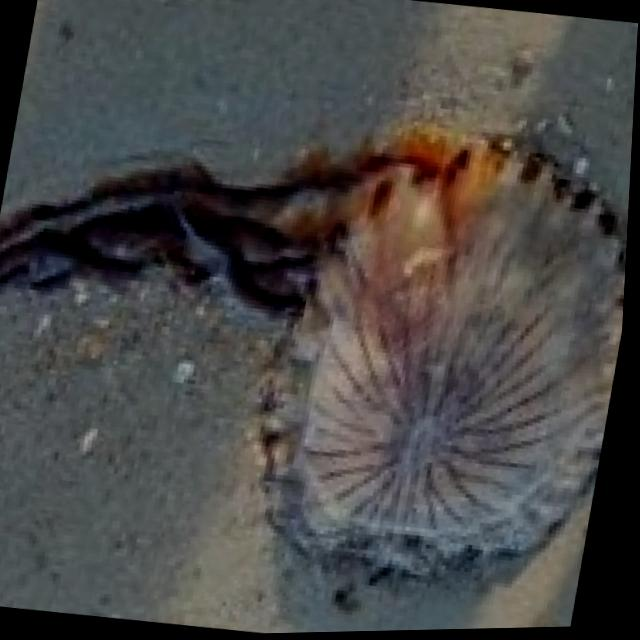Jellyfish: (0, 67, 637, 608)
